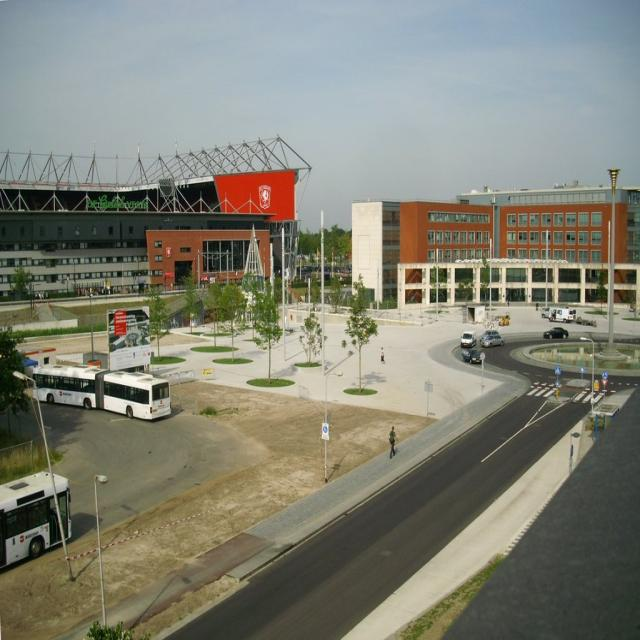Buses: (32, 362, 172, 423), (1, 471, 74, 575)
Passenger Car: (458, 329, 478, 348), (542, 327, 570, 340), (460, 350, 483, 365), (480, 334, 506, 347)
Pedestrians: (387, 426, 401, 460)
